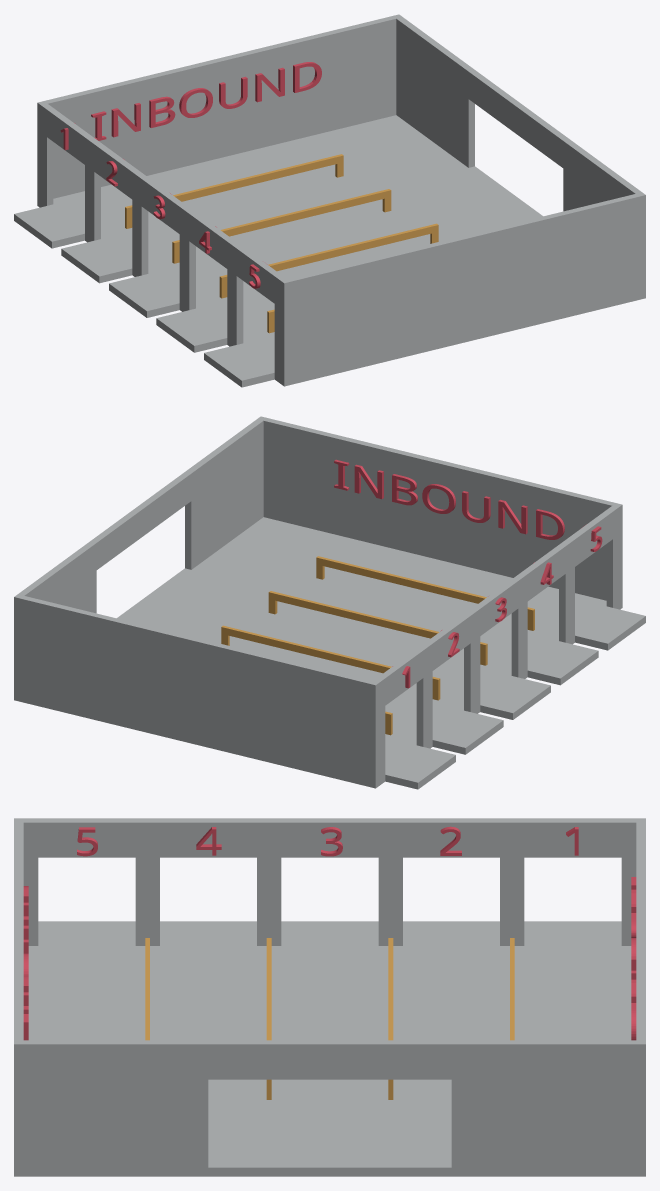
The model's file is CrossDock-Inbound.glb.
3 renders of one model, top to bottom at view 1: azimuth 30°, elevation 25°; view 2: azimuth 150°, elevation 25°; view 3: azimuth 270°, elevation 25°, orthographic. The views are drawn at different scales.
Visible parts, largest first — view 1: Mesh_Mesh_head_geo.001_lambert2SG.001; view 2: Mesh_Mesh_head_geo.001_lambert2SG.001; view 3: Mesh_Mesh_head_geo.001_lambert2SG.001.
Part boxes in pixels (left/top/right/bottom): Mesh_Mesh_head_geo.001_lambert2SG.001: left=14, top=14, right=645, bottom=387; Mesh_Mesh_head_geo.001_lambert2SG.001: left=14, top=416, right=645, bottom=789; Mesh_Mesh_head_geo.001_lambert2SG.001: left=14, top=818, right=645, bottom=1176.
Bounding box in the file's own units: 120 × 30 × 130.
